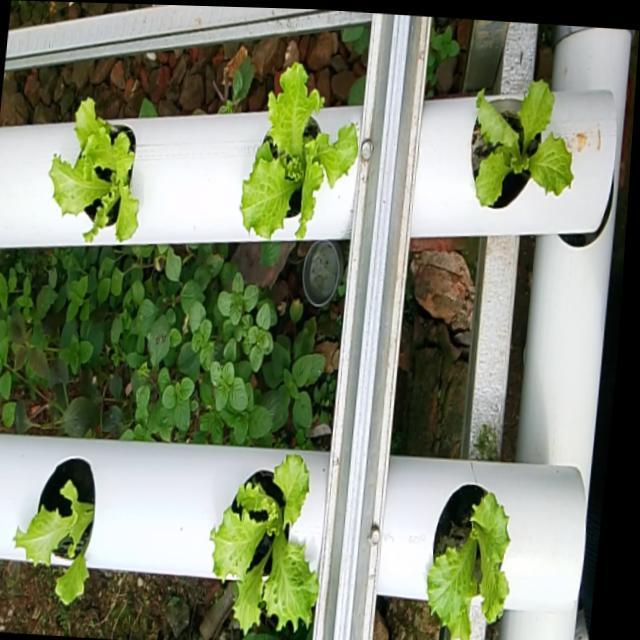Baby: (240, 63, 358, 240), (211, 454, 319, 640), (471, 79, 574, 210), (427, 484, 510, 640), (49, 98, 138, 242), (14, 457, 95, 603)
